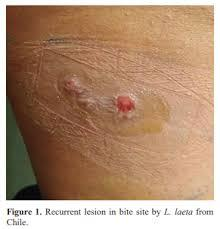Spider: (35, 51, 172, 155)
